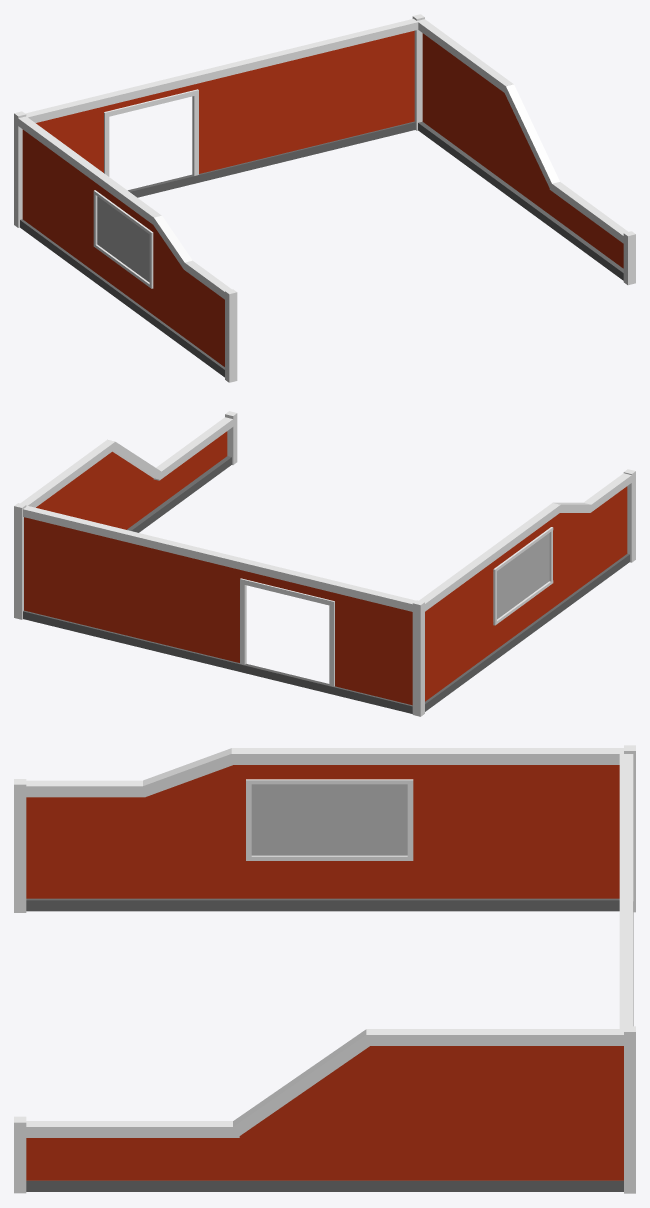
The model's file is Walls.fbx.
The picture shows the model from 3 angles, top to bottom: view 1: azimuth 30°, elevation 25°; view 2: azimuth 150°, elevation 25°; view 3: azimuth 270°, elevation 25°; orthographic projection. The views are drawn at different scales.
Visible parts, largest first — view 1: Boole, Wall, Plane, BeamLongTop_2, BeamLongTop_3, BeamLongTop_5, Glass, BeamLongTop_4, BeamLongTop, BeamLongTop_1, BeamSlant_1, BeamShort_1 (+9 smaller); view 2: Boole, Wall, Plane, BeamLongTop_2, BeamLongTop_3, Glass, BeamLongTop_4, BeamLongTop, BeamBack, BeamLongTop_1, BeamLongTop_5, BeamShort_1 (+9 smaller); view 3: Wall, Plane, Glass, BeamLongTop_4, BeamLongTop_5, BeamLongTop, BeamLongTop_1, BeamLongTop_2, BeamShort_1, WindowFrame, BeamSlant_1, BeamShort (+4 smaller).
Part boxes in pixels (x1=…): Boole: x1=36, y1=30, x2=414, y2=173; Wall: x1=22, y1=129, x2=224, y2=366; Plane: x1=422, y1=33, x2=623, y2=268; BeamLongTop_2: x1=25, y1=18, x2=420, y2=122; BeamLongTop_3: x1=128, y1=121, x2=415, y2=197; BeamLongTop_5: x1=418, y1=121, x2=623, y2=280; Glass: x1=97, y1=196, x2=149, y2=282; BeamLongTop_4: x1=20, y1=219, x2=224, y2=377; BeamLongTop: x1=17, y1=116, x2=161, y2=224; BeamLongTop_1: x1=418, y1=19, x2=513, y2=93; BeamSlant_1: x1=505, y1=84, x2=559, y2=187; BeamShort_1: x1=549, y1=182, x2=635, y2=246; Boole: x1=24, y1=517, x2=412, y2=705; Wall: x1=425, y1=486, x2=627, y2=701; Plane: x1=36, y1=431, x2=227, y2=529; BeamLongTop_2: x1=23, y1=505, x2=415, y2=611; BeamLongTop_3: x1=23, y1=610, x2=412, y2=713; Glass: x1=493, y1=533, x2=549, y2=621; BeamLongTop_4: x1=425, y1=553, x2=629, y2=711; BeamLongTop: x1=419, y1=503, x2=560, y2=611; BeamBack: x1=412, y1=600, x2=424, y2=716; BeamLongTop_1: x1=20, y1=440, x2=115, y2=507; BeamLongTop_5: x1=127, y1=456, x2=231, y2=532; BeamShort_1: x1=153, y1=416, x2=237, y2=480; Wall: x1=26, y1=765, x2=619, y2=898; Plane: x1=26, y1=1046, x2=623, y2=1180; Glass: x1=251, y1=784, x2=407, y2=855; BeamLongTop_4: x1=26, y1=898, x2=619, y2=911; BeamLongTop_5: x1=26, y1=1180, x2=623, y2=1191; BeamLongTop: x1=231, y1=748, x2=623, y2=764; BeamLongTop_1: x1=366, y1=1029, x2=623, y2=1045; BeamLongTop_2: x1=619, y1=752, x2=633, y2=1030; BeamShort_1: x1=14, y1=1121, x2=239, y2=1137; WindowFrame: x1=246, y1=779, x2=413, y2=860; BeamSlant_1: x1=232, y1=1029, x2=373, y2=1135; BeamShort: x1=14, y1=780, x2=144, y2=797.
Size of the model in its own units: 1035 by 273 by 949.
